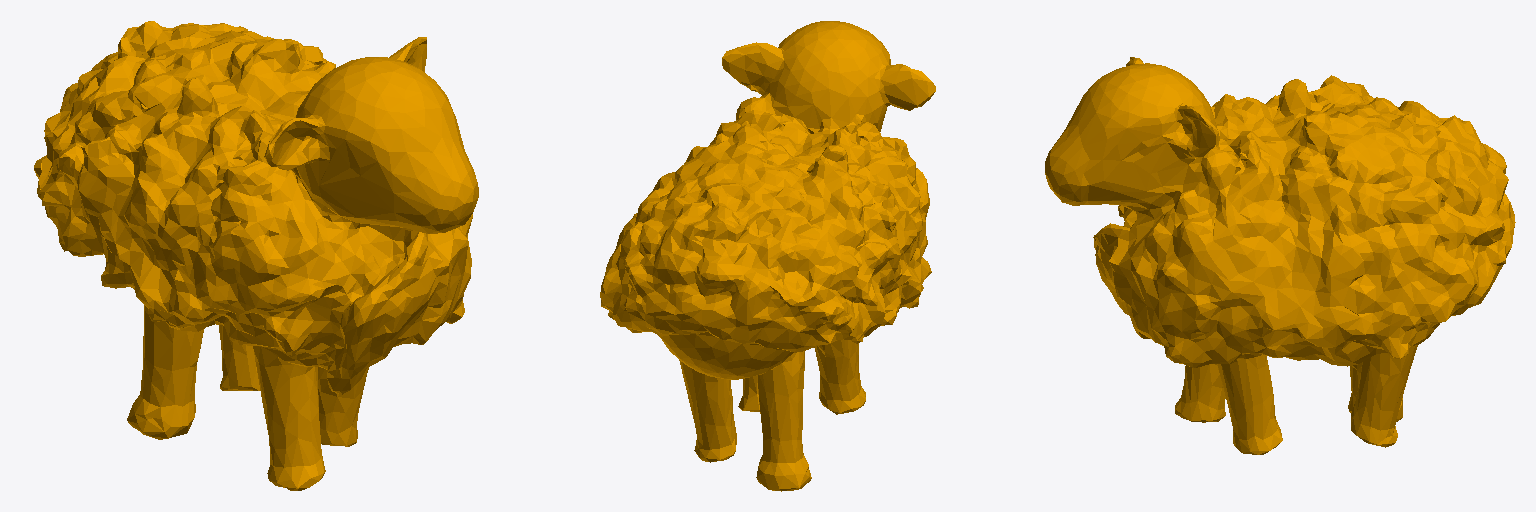
The robot description file, URDF, robot "m2wpphmn":
<?xml version='1.0'?>

<robot name="m2wpphmn">
    <static>false</static>
    <link name="link">
        <inertial>
            <mass value="0.05631675703880974"/>
            <inertia ixx="5.223812672806514e-05" ixy="2.8790787552105315e-06" ixz="6.711532693172344e-07"
                     iyy="3.166768512697124e-05" iyz="3.7224156324136054e-06" izz="5.10446532841082e-05"/>
        </inertial>
        <collision name="collision">
            <geometry>
                <mesh filename="package://miscnet/train/m2wpphmn/collision_model_vhacd.obj"/>
            </geometry>
        </collision>
        <visual name="visual">
            <geometry>
                <mesh filename="package://miscnet/train/m2wpphmn/visual_model.obj"/>
            </geometry>
        </visual>
    </link>
</robot>

--- What the picture shows (computed from the rendered views, not written in the file) ---
The picture shows the robot from 3 angles, left to right: view 1: azimuth 30°, elevation 25°; view 2: azimuth 150°, elevation 25°; view 3: azimuth 270°, elevation 25°; orthographic projection.
Model m2wpphmn with 1 links and 0 joints (none), rooted at link, posed all joints at 0.
Visible links, largest first — view 1: link; view 2: link; view 3: link.
Link boxes in pixels (x1=…): link: x1=34, y1=21, x2=478, y2=490; link: x1=600, y1=21, x2=935, y2=491; link: x1=1045, y1=57, x2=1515, y2=454.
Size in the robot's own frame: 0.0791 by 0.1153 by 0.1034 metres.
Meshes: 1 distinct files referenced, 1 mesh visuals loaded (1 OBJ).
